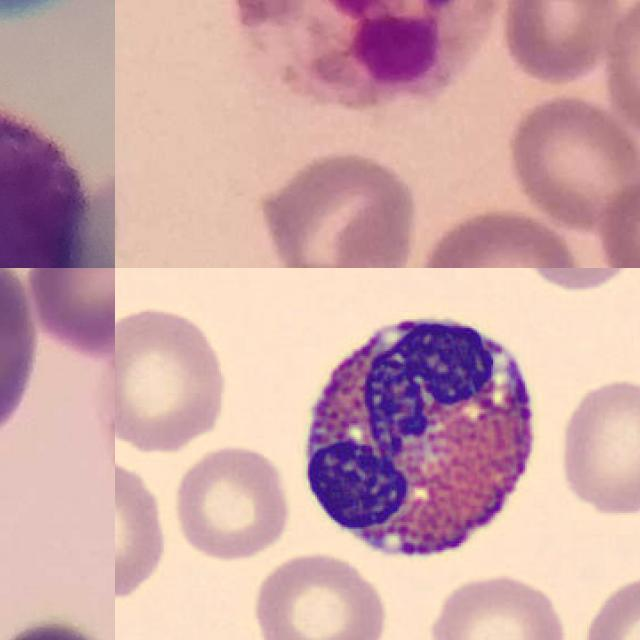Basophil: (0, 96, 91, 268)
Eosinophil: (287, 296, 553, 577)
Neutrophil: (230, 0, 502, 110)
RBC: (115, 301, 231, 456), (169, 441, 294, 566), (247, 548, 391, 640), (553, 373, 640, 518), (115, 537, 232, 640), (423, 567, 573, 640), (115, 456, 173, 606), (576, 567, 640, 640)
